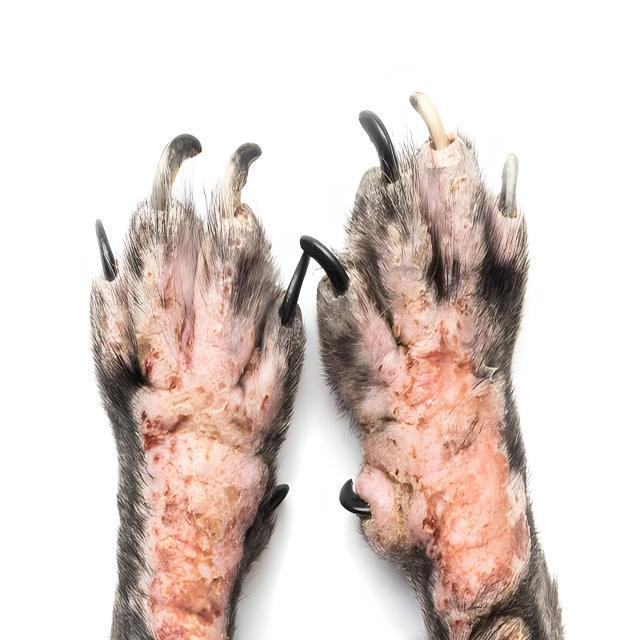allergic dermatitis: (357, 234, 529, 640), (119, 252, 268, 640)
